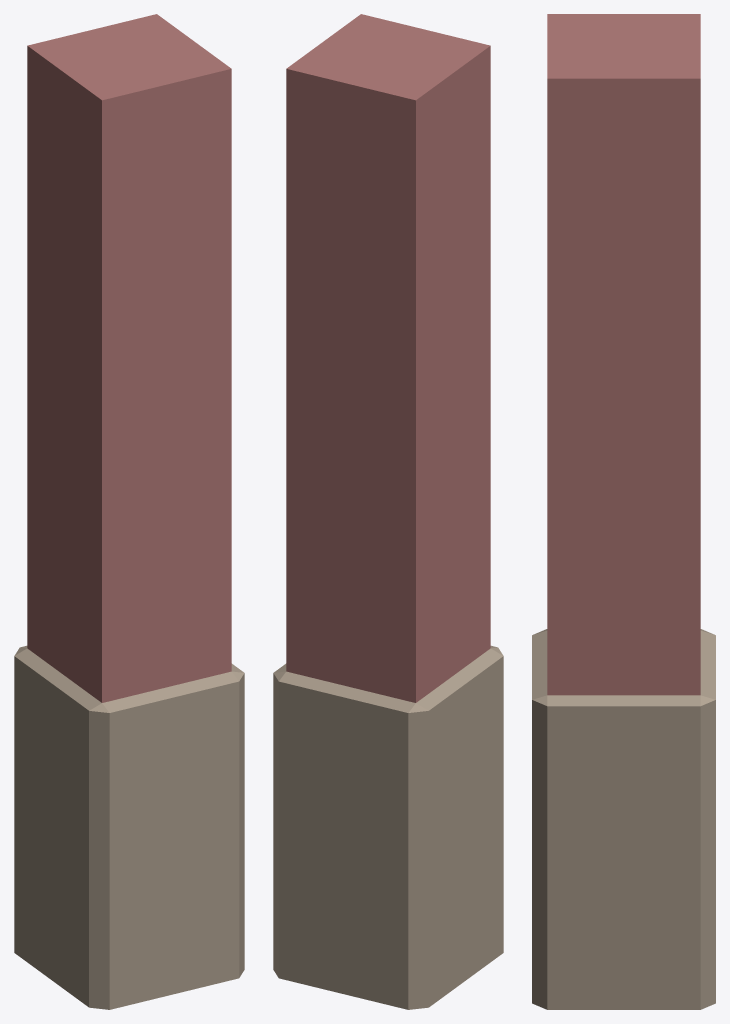
The model's file is pillar_base1.fbx.
3 renders of one model, left to right at view 1: azimuth 30°, elevation 25°; view 2: azimuth 150°, elevation 25°; view 3: azimuth 270°, elevation 25°, orthographic. The views are drawn at different scales.
Parts seen in each view (by area): view 1: Cube; view 2: Cube; view 3: Cube.
Boxes of the visible parts, left/top/right/bottom form: Cube: left=14, top=14, right=244, bottom=1009; Cube: left=273, top=14, right=503, bottom=1009; Cube: left=532, top=14, right=715, bottom=1009.
Size of the model in its own units: 72 by 400 by 72.
